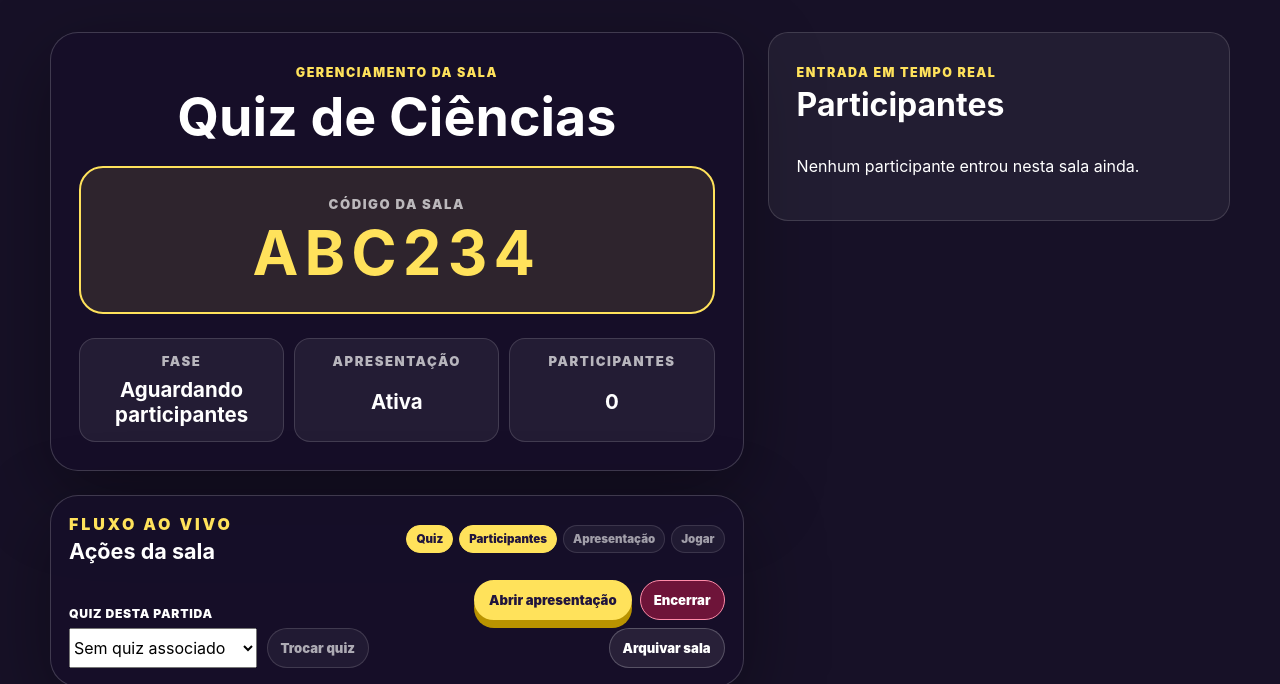
it: WaitingRoomPage › permite trocar o quiz associado à sala
Select "Ciências publicadas" in the dropdown labelled "Quiz desta partida": {"x": 163, "y": 648} [69, 628, 256, 668]
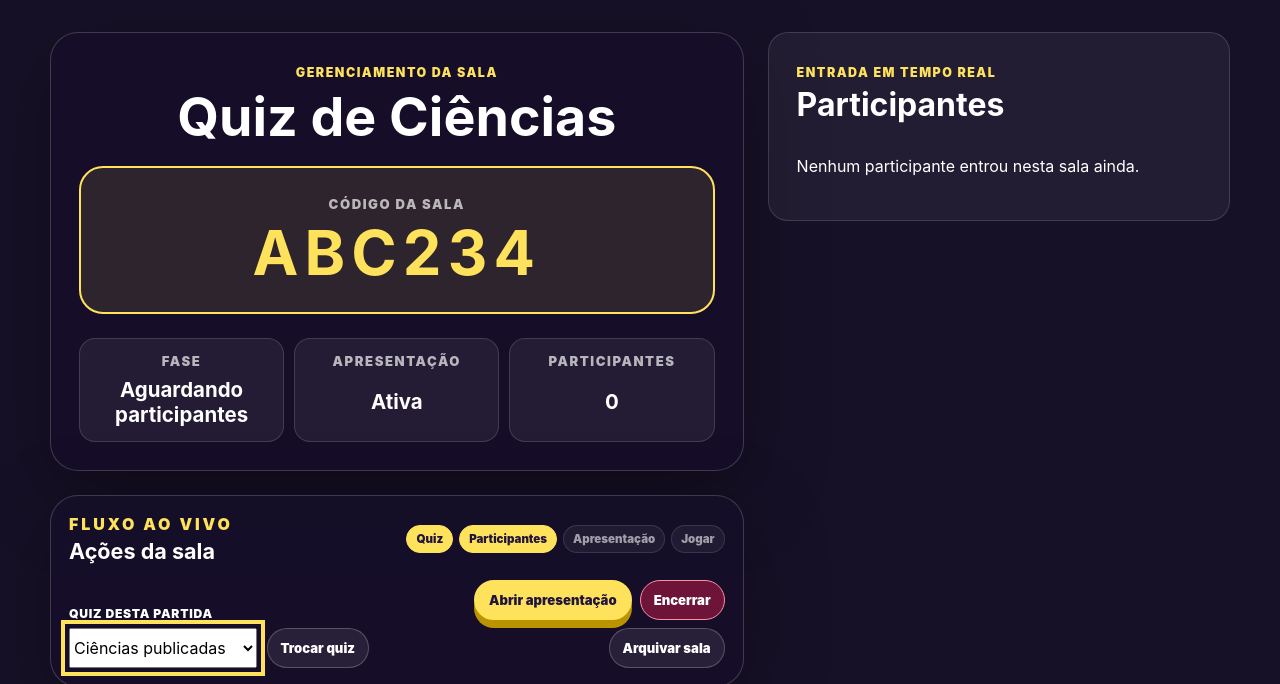
Click the button "Trocar quiz": {"x": 318, "y": 648} [266, 628, 369, 668]
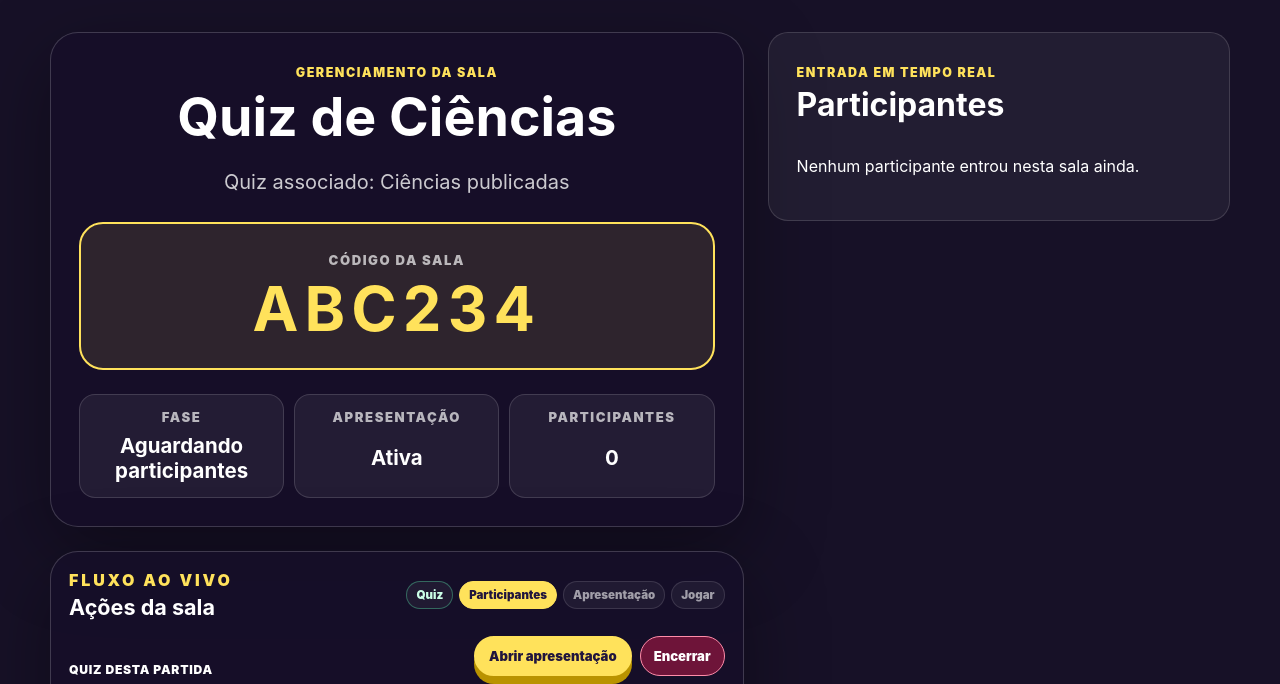
Expected: the text "Quiz associado: Ciências publicadas" is shown, [224, 170, 570, 194]
